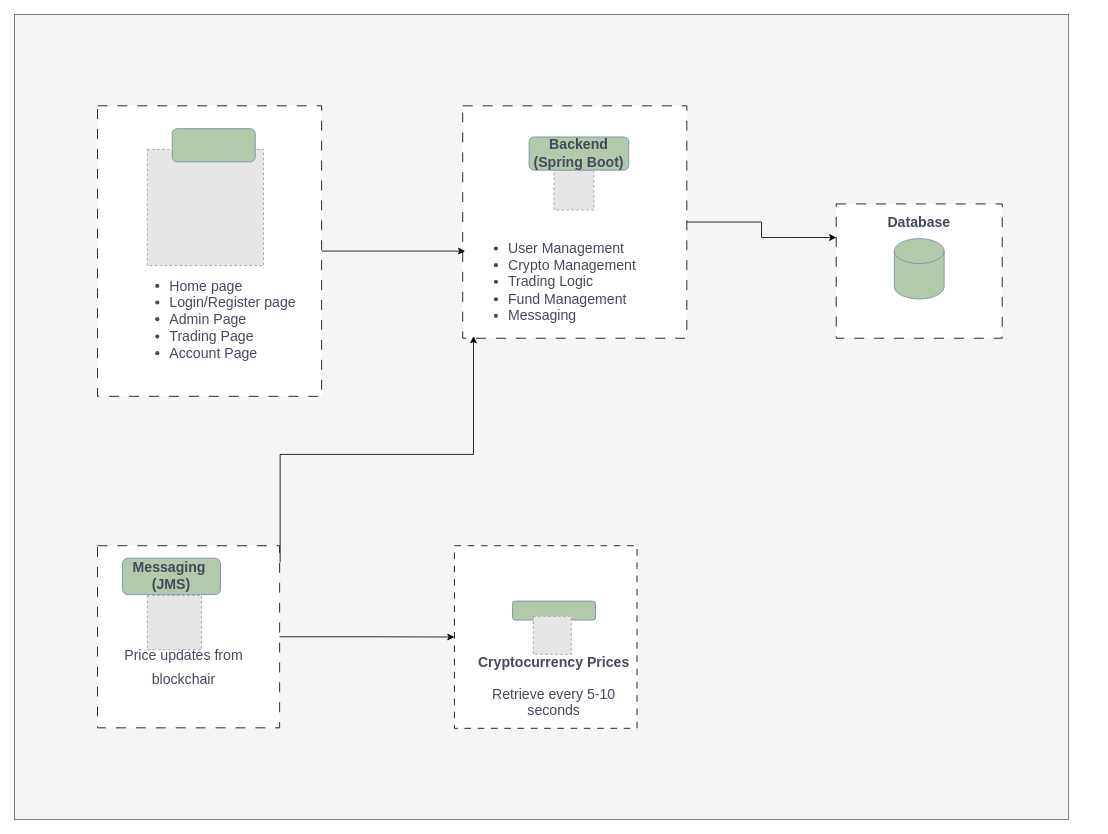
Some shapes in this 1108 by 834 pixel diagram are drawn without their labels. Grey dashed boxes stand in for pictures. The centre of each missing label's shape, as x and y in pixels:
"Blockchair" belongs at (x=554, y=610).
"FrontEnd (React)" belongs at (x=213, y=145).
